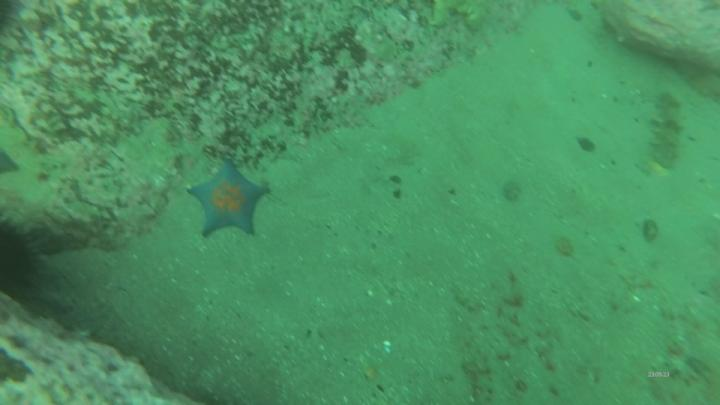holothurian: (653, 88, 683, 171), (465, 349, 493, 405), (429, 1, 486, 27)
starfish: (186, 163, 275, 242)
